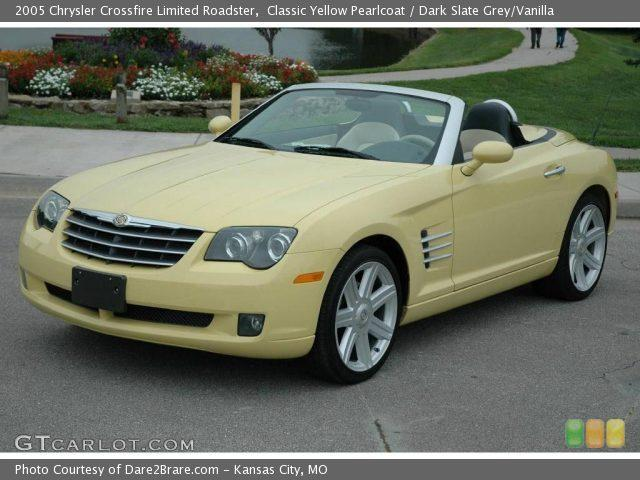car: (12, 59, 640, 387)
